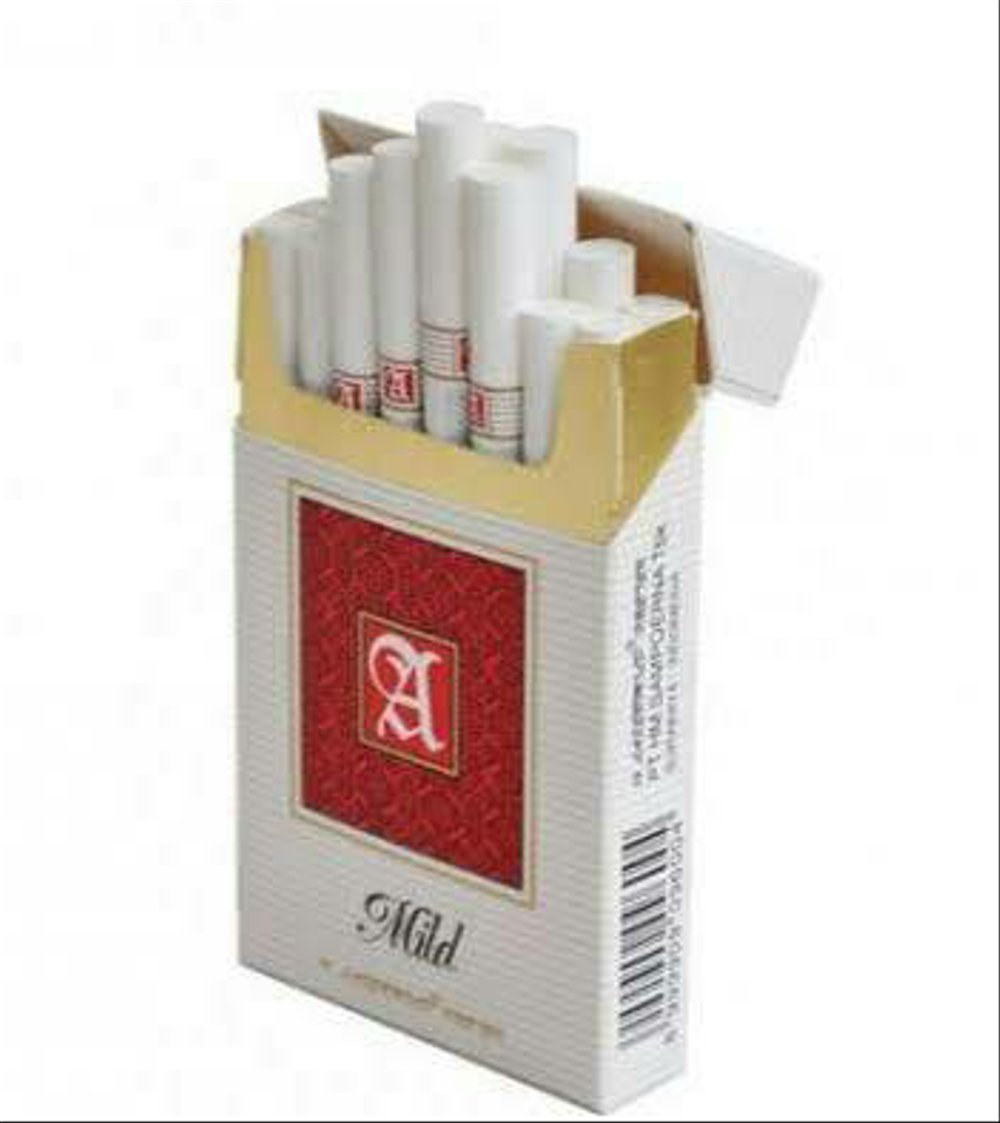A Mild: (204, 99, 836, 1106)
